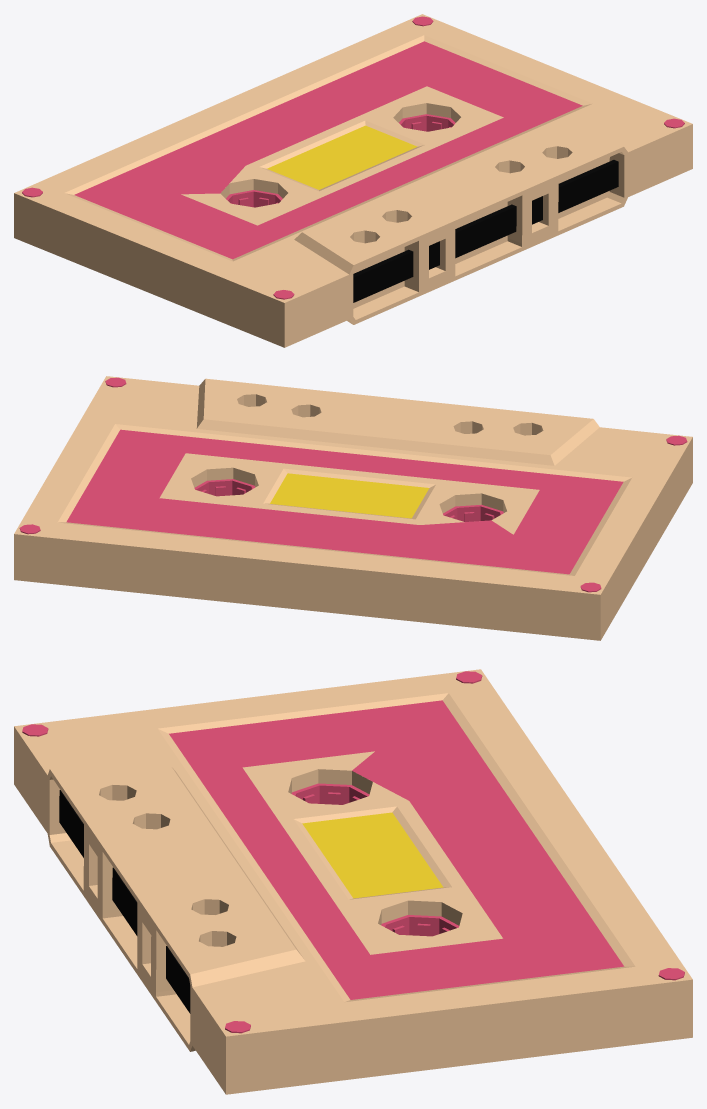
Rendered from ToyObject_012.fbx.
3 views of the same model, one above another, from view 1: azimuth 30°, elevation 25°; view 2: azimuth 150°, elevation 25°; view 3: azimuth 270°, elevation 25° (orthographic). The views are drawn at different scales.
Parts seen in each view (by area): view 1: 1.047; view 2: 1.047; view 3: 1.047.
Boxes of the visible parts, x1=… form: 1.047: x1=14, y1=14, x2=692, y2=347; 1.047: x1=14, y1=376, x2=692, y2=640; 1.047: x1=14, y1=669, x2=692, y2=1094.
Bounding box in the file's own units: 0.1862 × 0.0185 × 0.1456.
